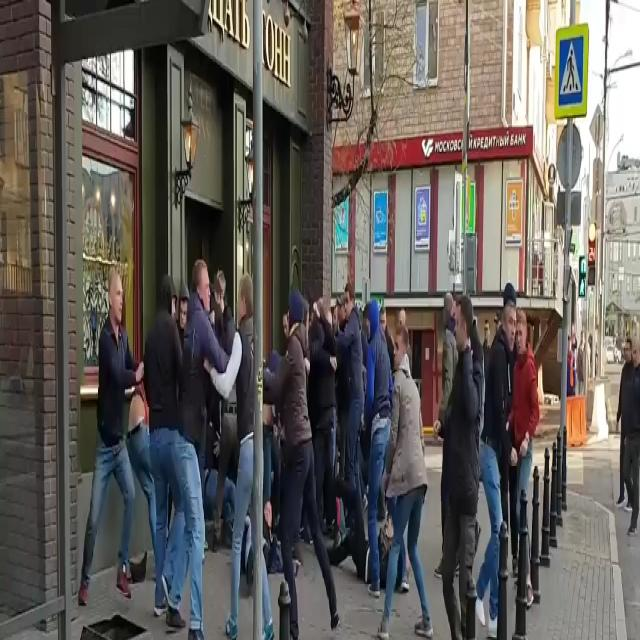fight: (169, 228, 271, 631), (81, 257, 160, 625), (278, 220, 344, 640), (348, 206, 390, 640)
